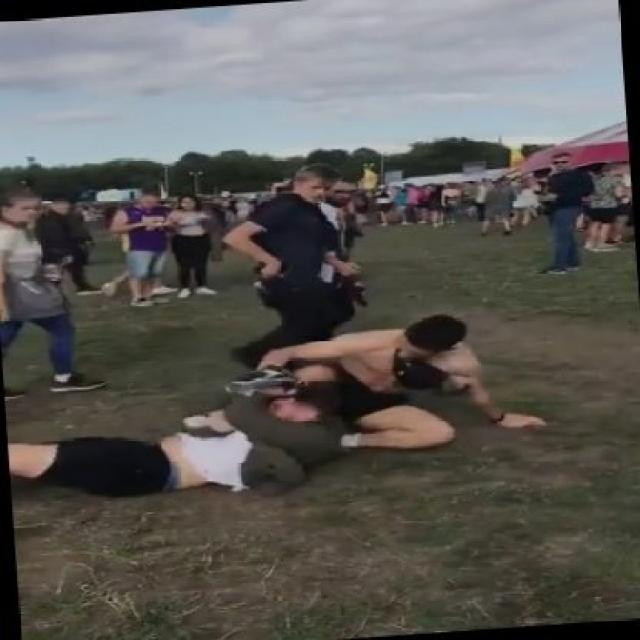fight: (0, 309, 543, 493), (224, 160, 360, 369)
non-fight: (0, 180, 100, 403), (109, 182, 170, 306), (161, 197, 218, 300), (543, 152, 589, 277)
